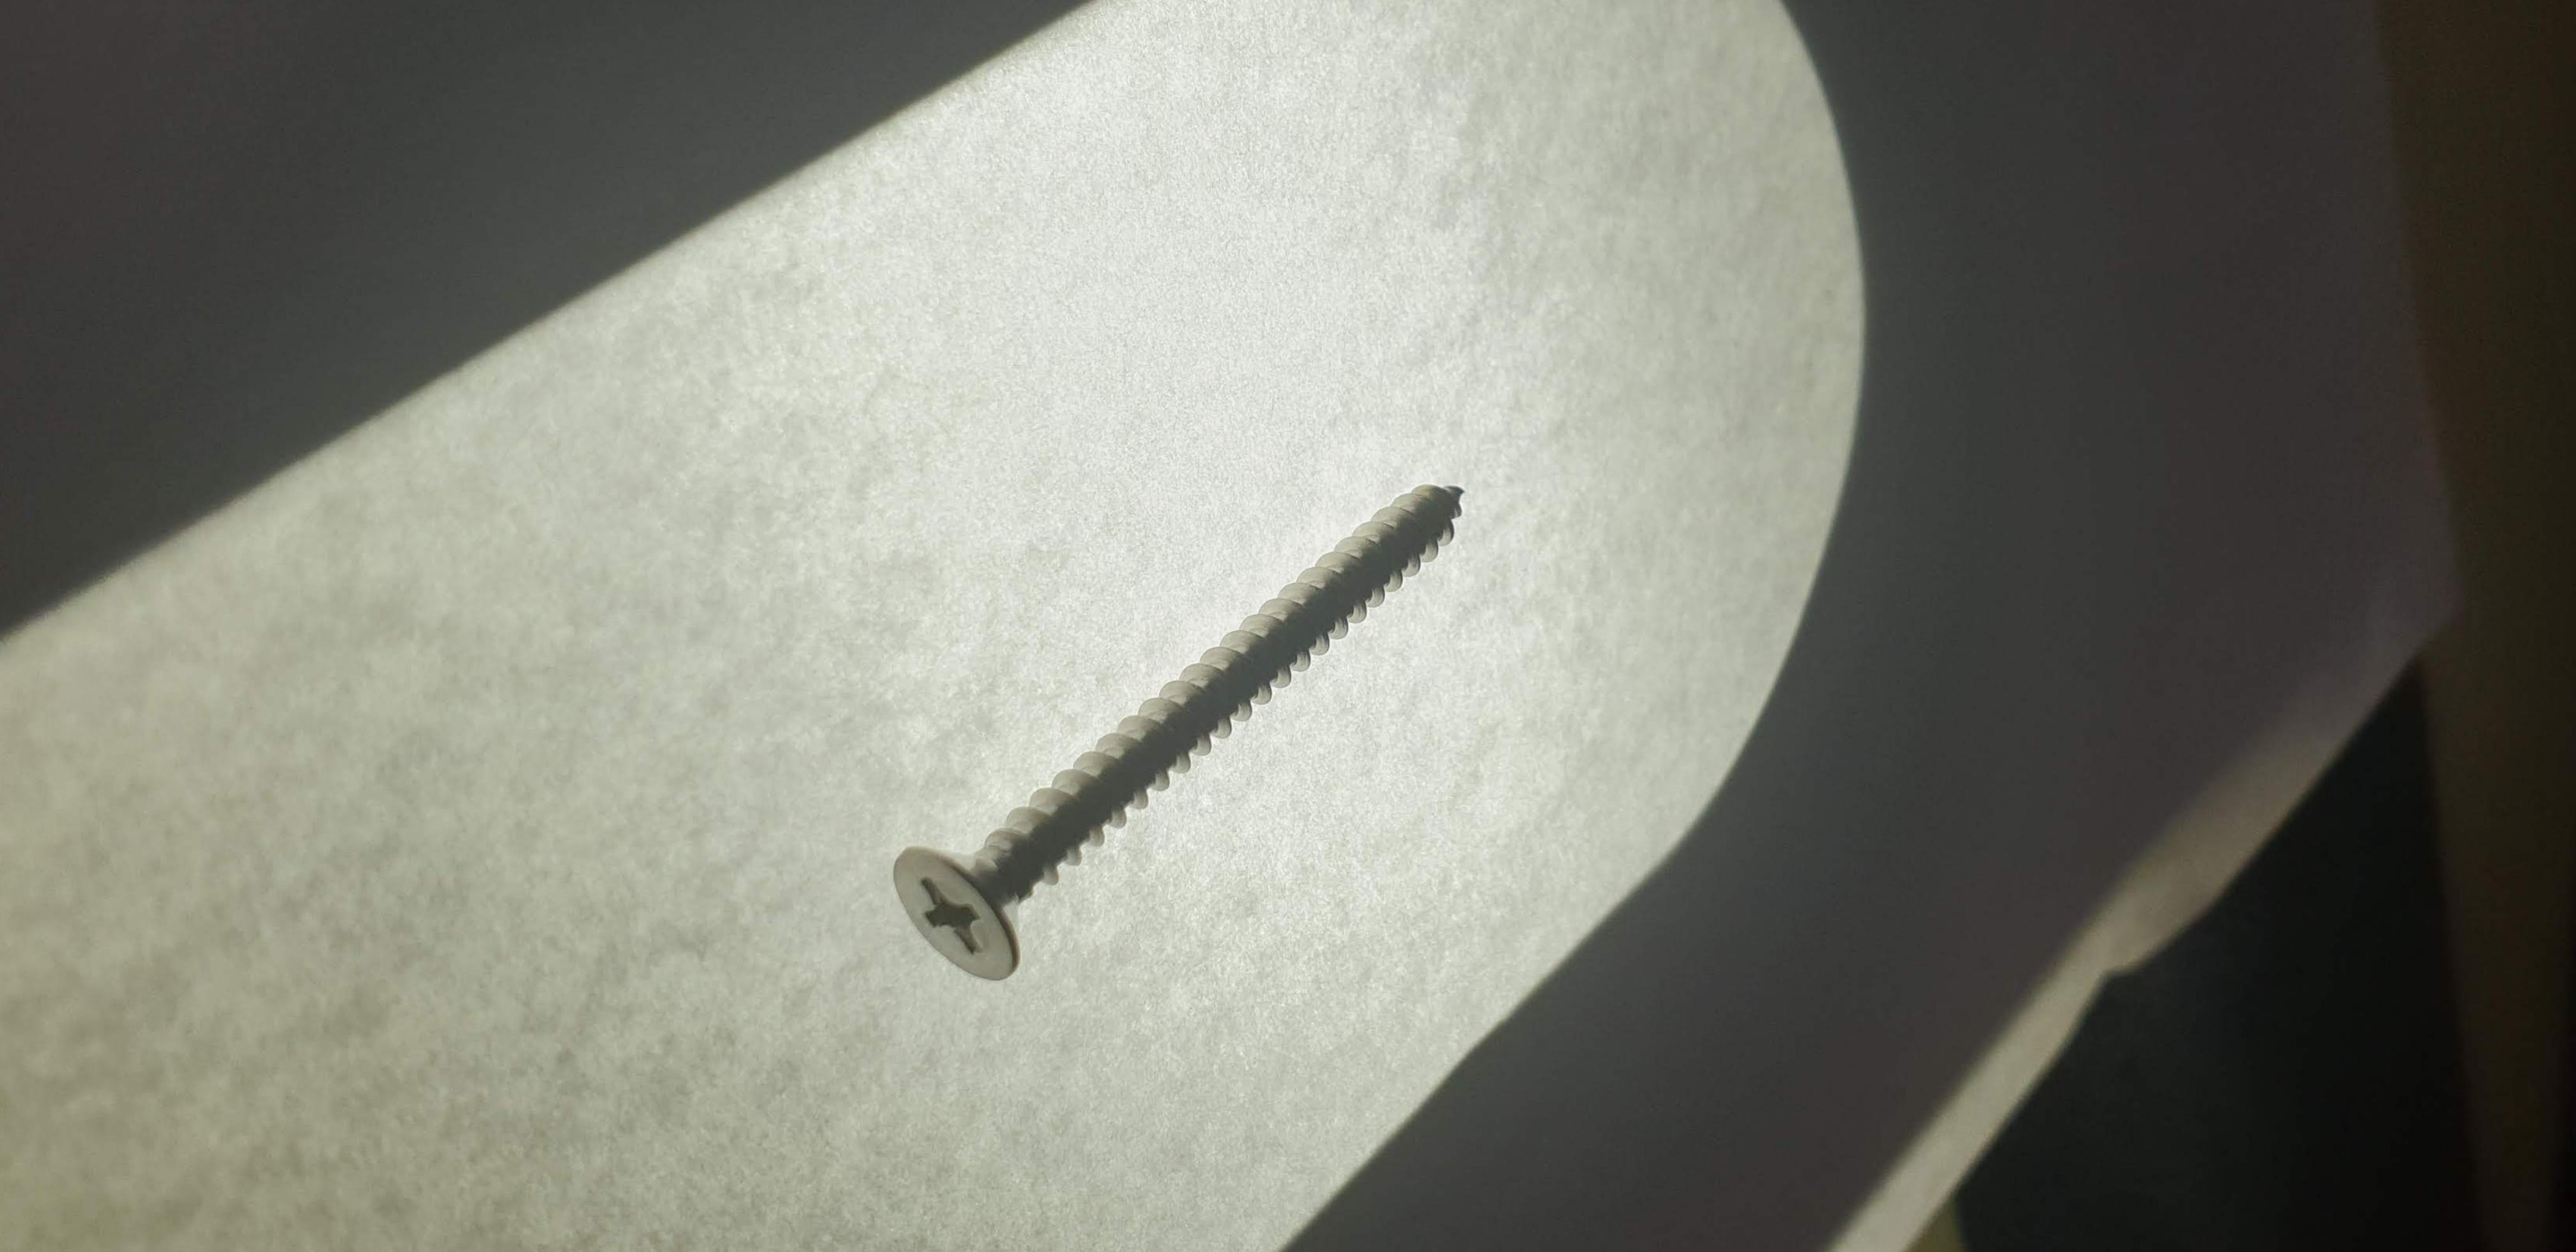S001: (843, 383, 1556, 1040)
